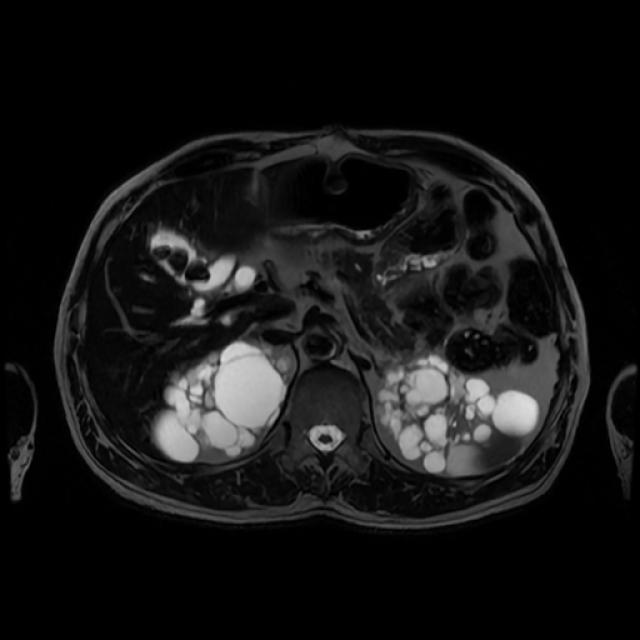sag: (148, 337, 294, 464)
sol: (374, 353, 540, 478)
